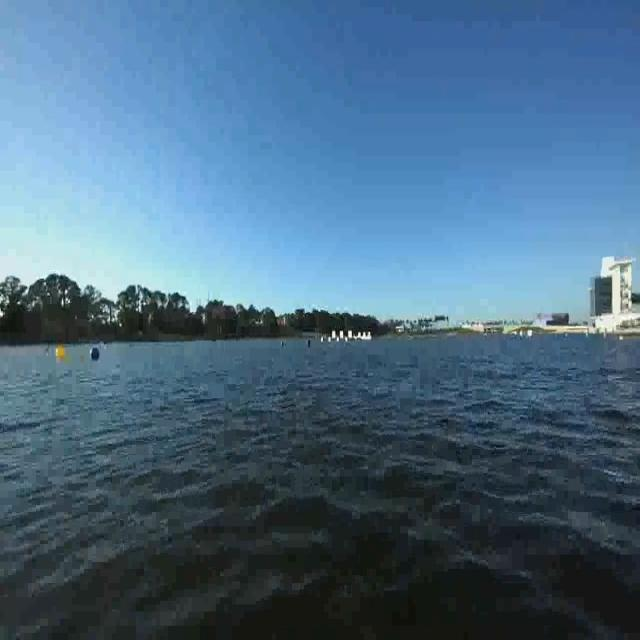black-buoy: (92, 346, 101, 361)
yellow-buoy: (58, 344, 66, 359)
